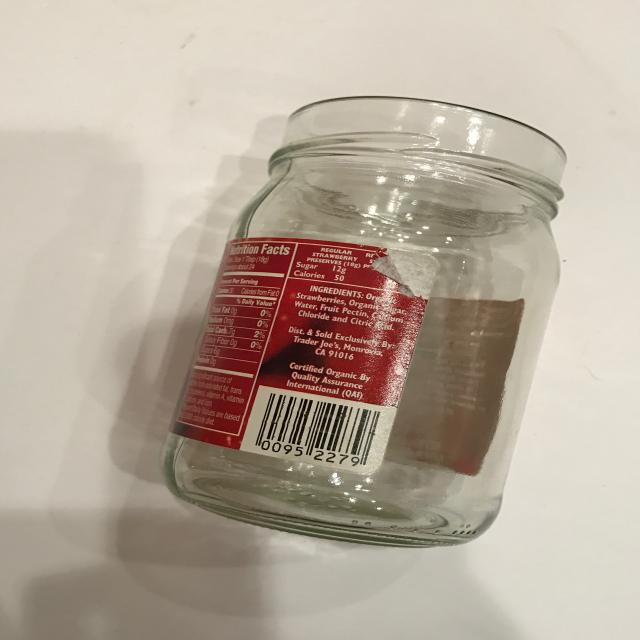glass: (159, 94, 568, 548)
